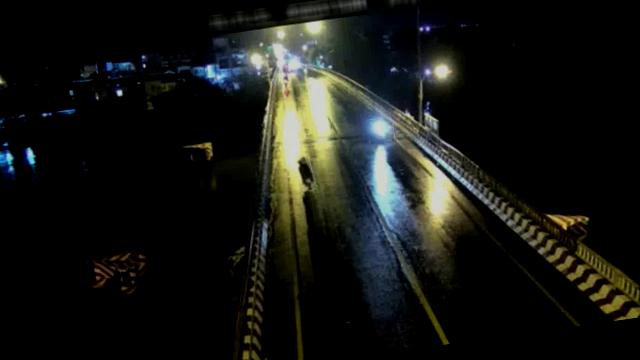Bike: (294, 156, 316, 192), (366, 116, 395, 142)
